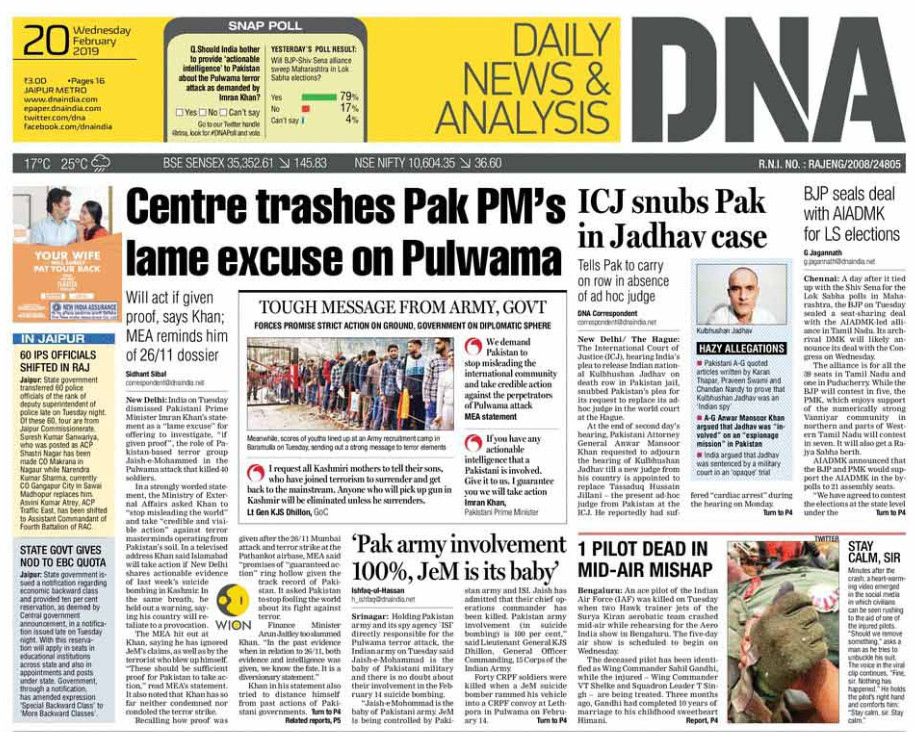news_paper: (8, 5, 913, 731)
